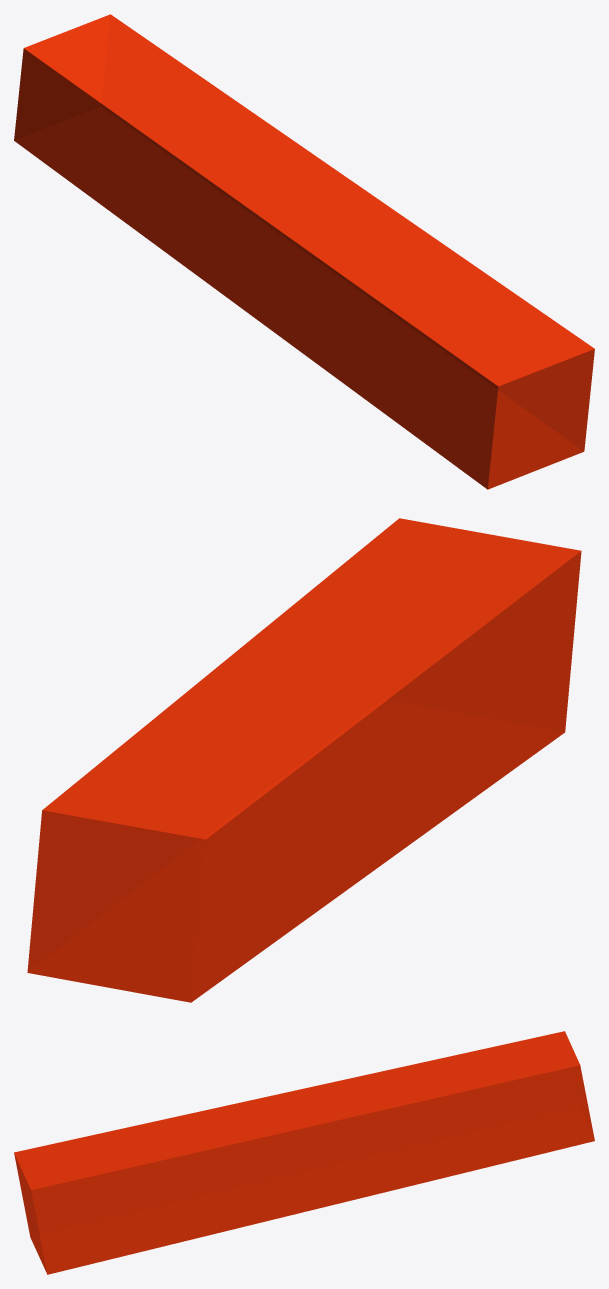
File: Event_421556567_EBrechit_5.fbx
3 renders of one model, top to bottom at view 1: azimuth 30°, elevation 25°; view 2: azimuth 150°, elevation 25°; view 3: azimuth 270°, elevation 25°, orthographic. The views are drawn at different scales.
Parts seen in each view (by area): view 1: Model; view 2: Model; view 3: Model.
Boxes of the visible parts, x1,y1,x2,y2 form: Model: [14, 14, 594, 489]; Model: [27, 518, 581, 1002]; Model: [14, 1031, 594, 1274].
Size of the model in its own units: 0.1278 by 0.1189 by 0.3779.
